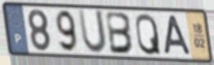8: (27, 8, 53, 53)
9: (53, 9, 80, 54)
A: (163, 14, 193, 56)
B: (105, 10, 136, 56)
Q: (134, 12, 163, 57)
U: (77, 8, 109, 56)
